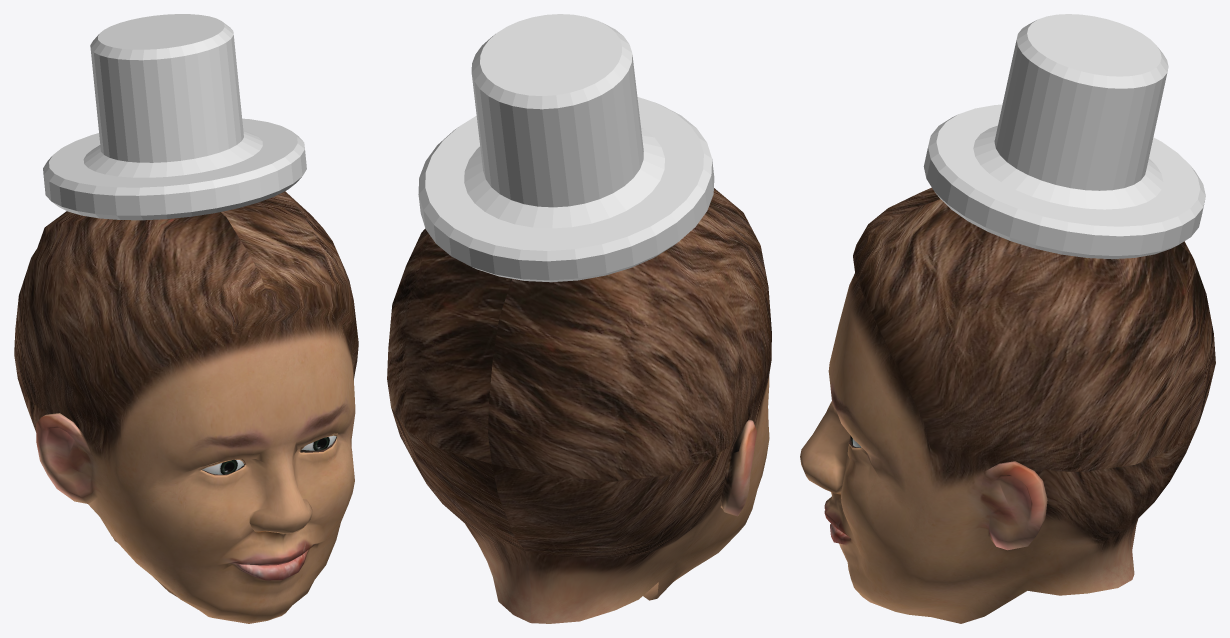
The model's file is MartinHead.fbx.
3 renders of one model, left to right at view 1: azimuth 30°, elevation 25°; view 2: azimuth 150°, elevation 25°; view 3: azimuth 270°, elevation 25°, orthographic. The views are drawn at different scales.
Visible parts, largest first — view 1: MartinBody_NEUTRAL, Hat; view 2: MartinBody_NEUTRAL, Hat; view 3: MartinBody_NEUTRAL, Hat.
Part boxes in pixels (x1,y1,x2,y2): MartinBody_NEUTRAL: [14, 191, 358, 623]; Hat: [43, 14, 306, 220]; MartinBody_NEUTRAL: [387, 188, 771, 623]; Hat: [418, 14, 714, 282]; MartinBody_NEUTRAL: [800, 187, 1215, 623]; Hat: [923, 14, 1205, 259].
Bounding box in the file's own units: 1700 × 2931 × 1905.
